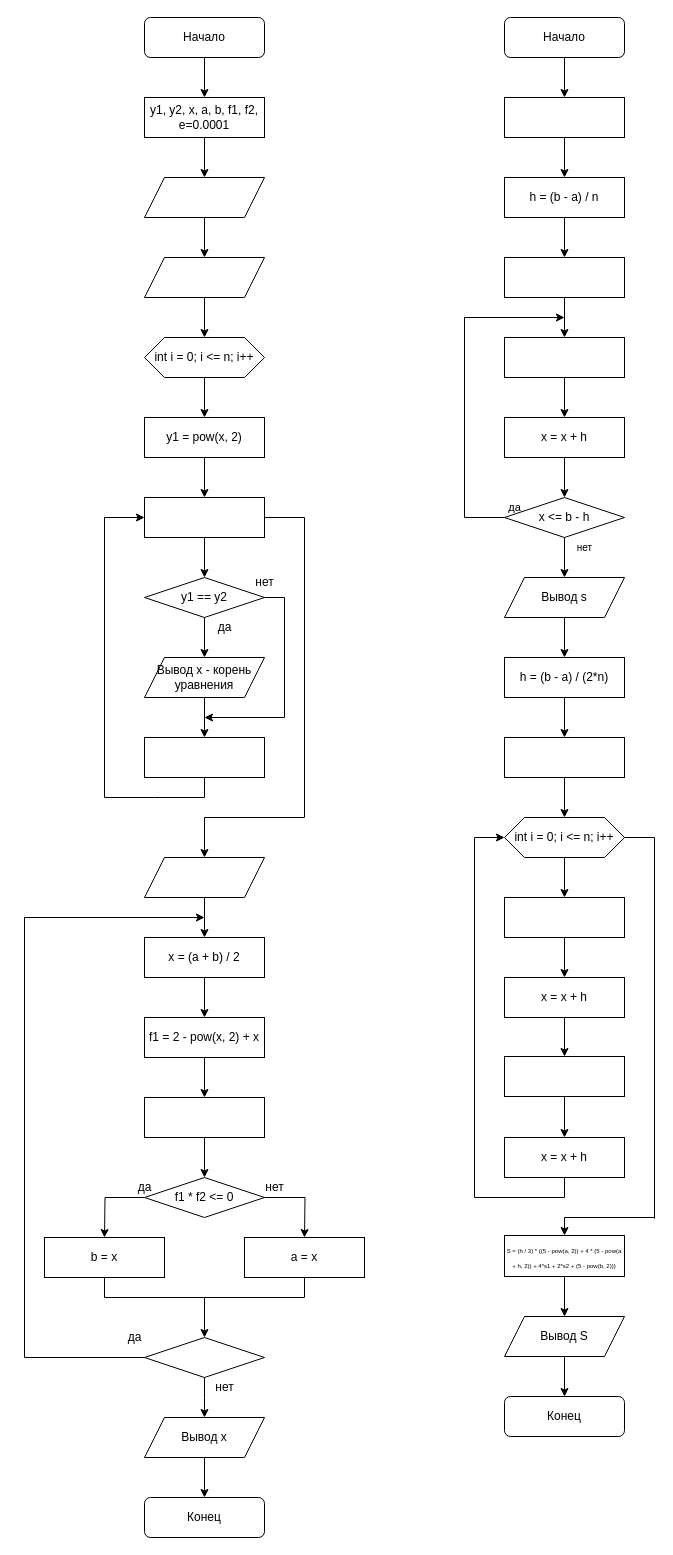
This 673x1555 diagram has some shape labels left out. The centre of each missing label's shape, as x and y in pixels:
abs(a - b) > (2 * e): the point at 204,1357
b=12, n=200 h, a=8, x s1 = 0, s2 = 0, s=0, S: the point at 564,117
f2 = 2 - pow(a, 2) + a: the point at 204,1117
s = s + h * ((5 - pow(x, 2)) + (5 - pow(x + h, 2)))/2;: the point at 564,357
s1 = s1 + (5 - pow(x, 2)): the point at 564,1076
s2 = s2 + (5 - pow(x, 2)): the point at 564,917
x = a: the point at 564,277
x = a+2*h: the point at 564,757
x++: the point at 204,757
y2 = x + 2: the point at 204,517
Ввод a, b: the point at 204,877
Ввод n: the point at 204,277
Ввод x: the point at 204,197
